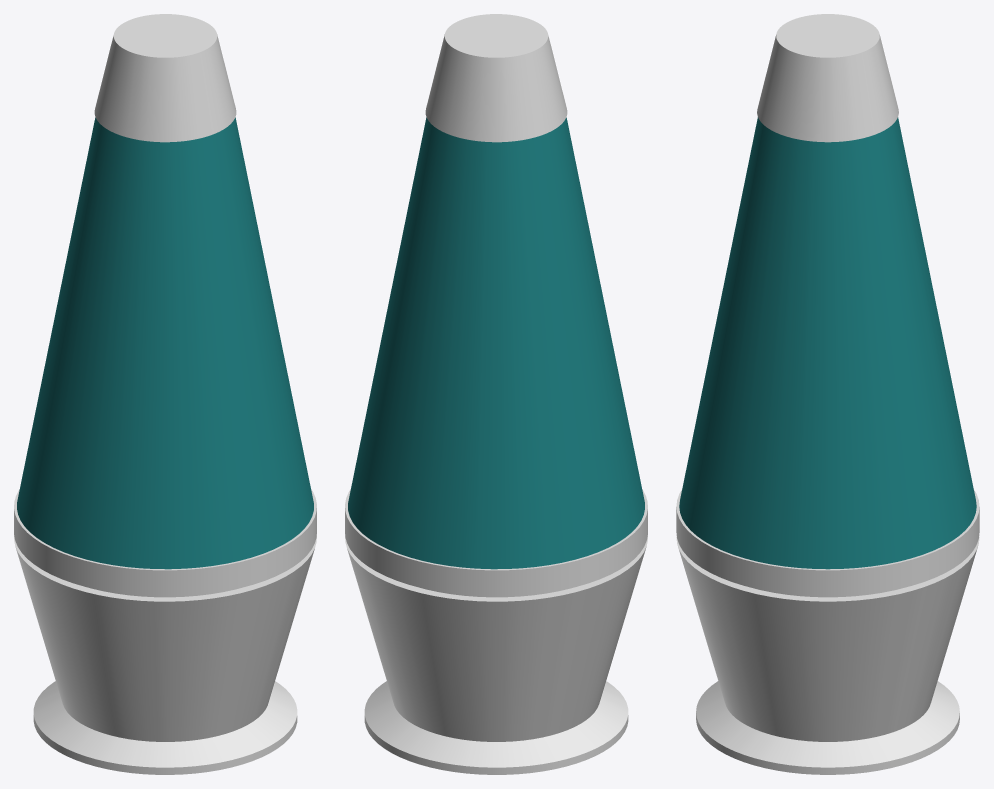
3 renders of one model, left to right at view 1: azimuth 30°, elevation 25°; view 2: azimuth 150°, elevation 25°; view 3: azimuth 270°, elevation 25°, orthographic.
Visible parts, largest first — view 1: tapered_body, base, top_cap; view 2: tapered_body, base, top_cap; view 3: tapered_body, base, top_cap.
Boxes of the visible parts, left/top/right/bottom form: tapered_body: left=17, top=117, right=313, bottom=569; base: left=14, top=489, right=316, bottom=774; top_cap: left=94, top=14, right=236, bottom=142; tapered_body: left=348, top=117, right=644, bottom=569; base: left=345, top=489, right=647, bottom=774; top_cap: left=425, top=14, right=567, bottom=142; tapered_body: left=679, top=117, right=976, bottom=569; base: left=676, top=489, right=979, bottom=774; top_cap: left=757, top=14, right=898, bottom=142.
Size of the model in its own units: 0.1608 by 0.4 by 0.1608.
